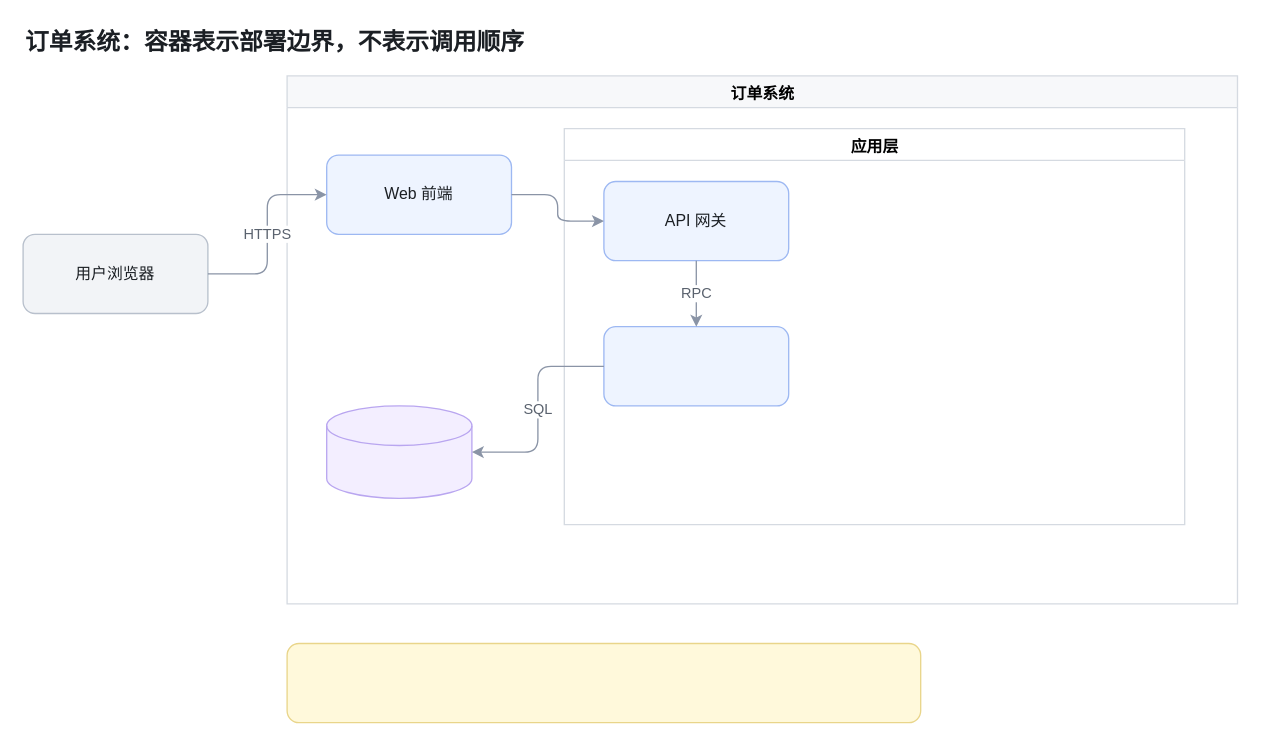
This 1261x746 diagram has some shape labels left out. The centre of each missing label's shape, as x and y in pixels:
"订单库" goes at (x=398, y=451).
"订单服务" goes at (x=696, y=365).
"边界说明：用户不在系统内；应用层是部署单元；数据库属于系统但不属于应用层。" goes at (x=603, y=682).
